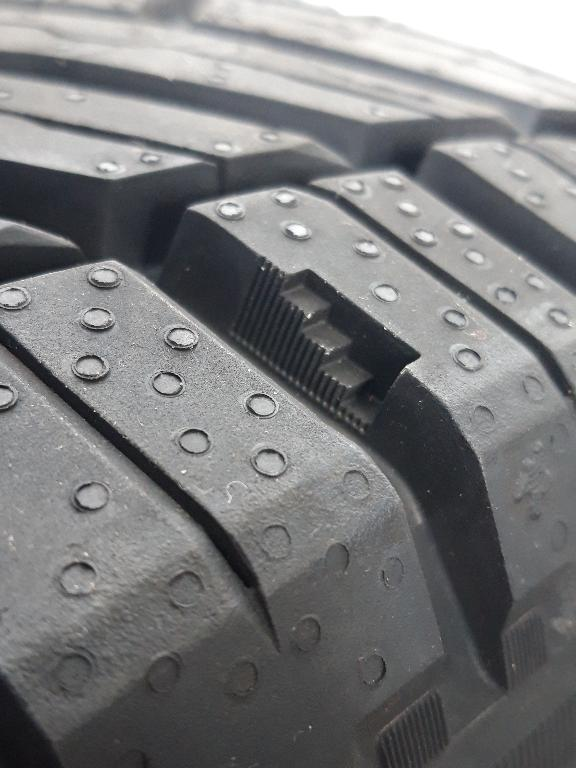temoin:100: (222, 249, 434, 447)
